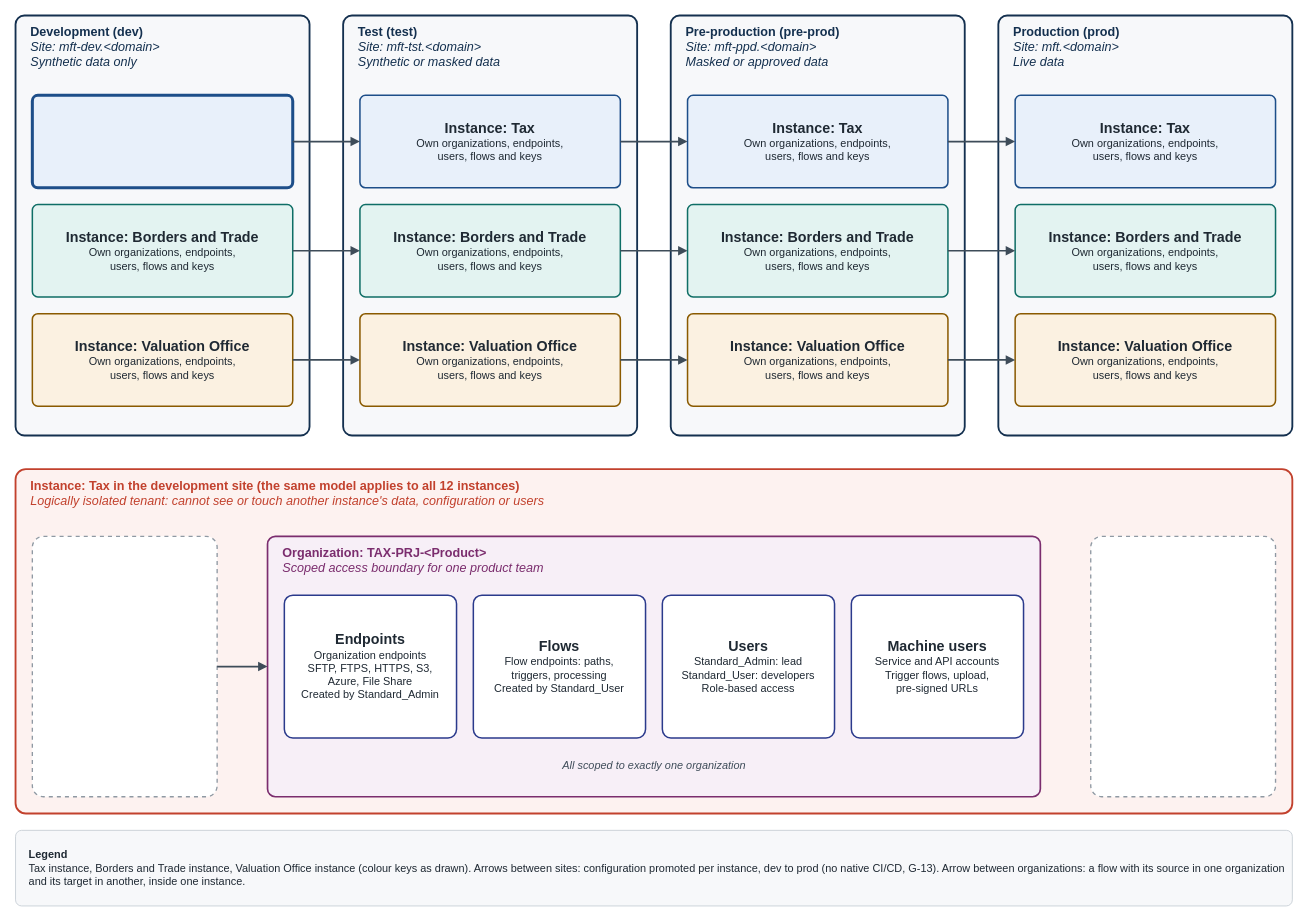
Image size: 1308x921. Some labels were removed from this diagram. Here are the shapes that lost their labels. From the top down, the centre of each, then its label:
At [162,141]: "Instance: Tax Own organizations, endpoints, users, flows and keys Expanded below".
At [124,666]: "Organization TAX-PTN-<Partner> (collapsed)".
At [1183,666]: "Organization TAX-PRJ-<Other team> (collapsed)".
